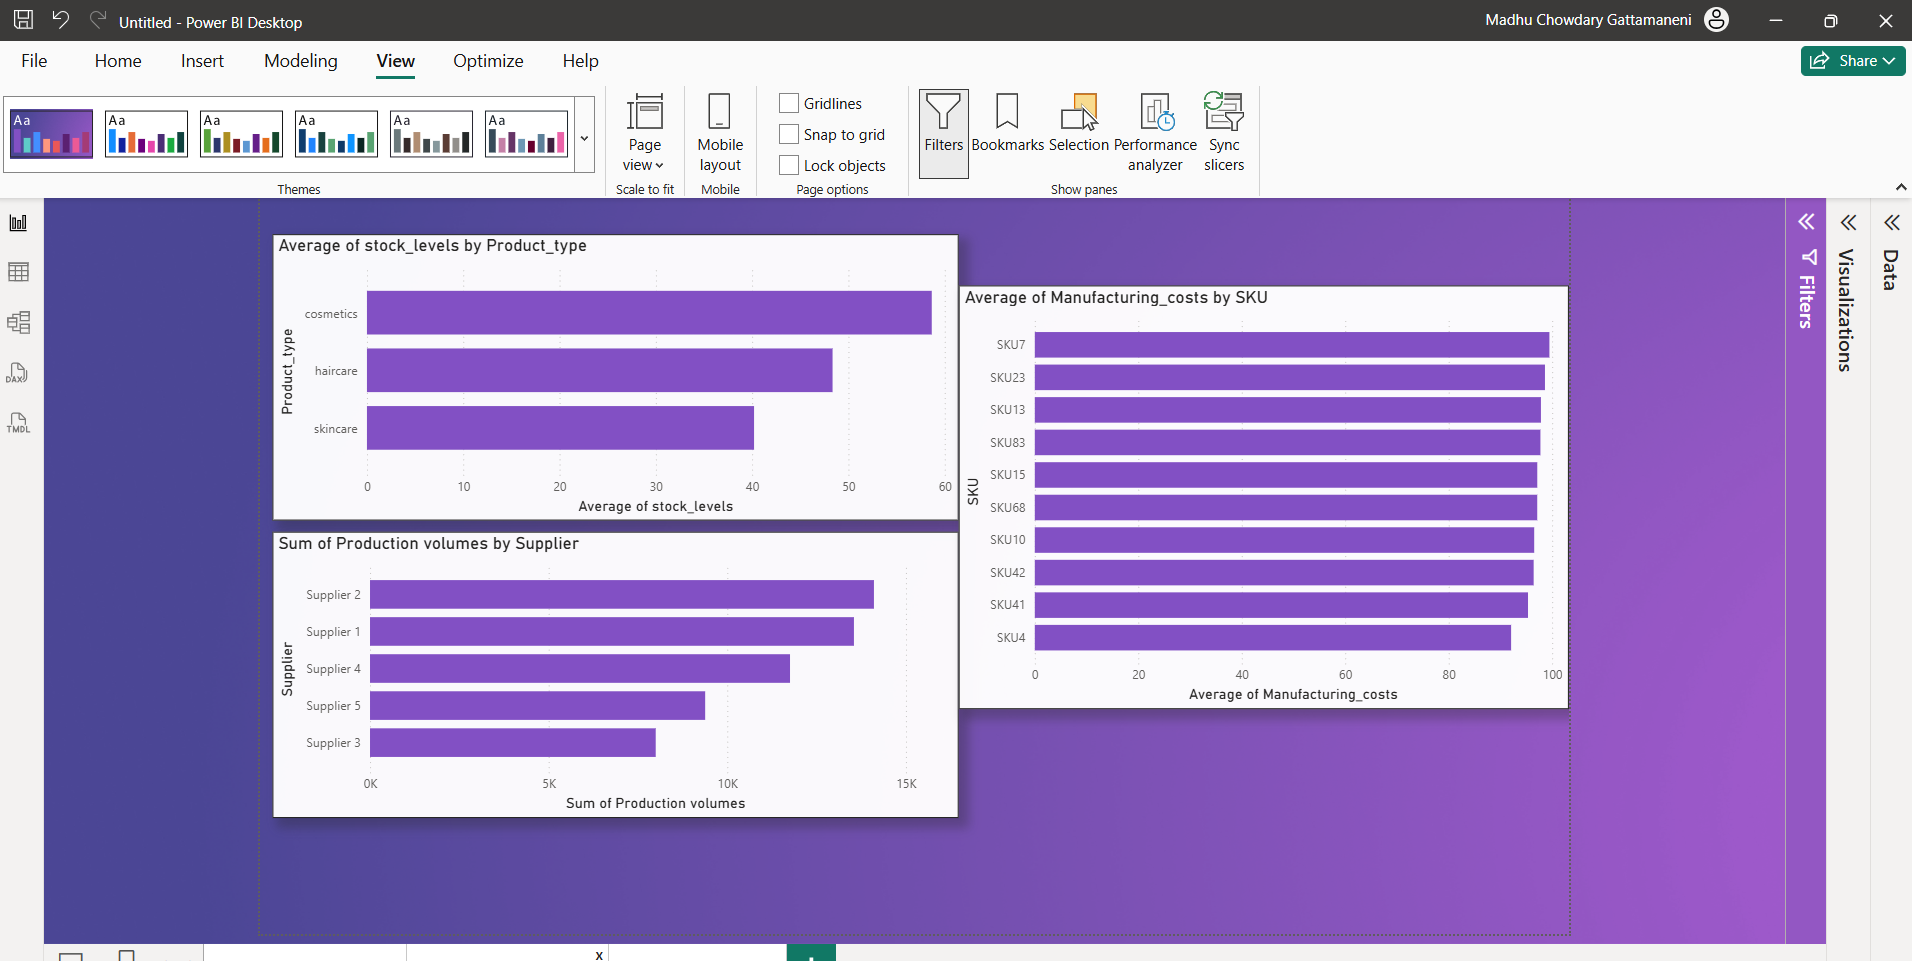

The dashboard page shown, as its layout file describes it:
{"tool":"powerbi","page":{"name":"Inventory&Production","canvas":[1280,720],"ordinal":1},"visuals":[{"type":"barChart","title":"Average  stock_levels by Product_type","fields":{"Category":["supply_chain_data.Product_type"],"Y":["Avg(supply_chain_data.stock_levels)"]},"box":[12.3,35.7,671,279.9],"z":0},{"type":"barChart","fields":{"Category":["supply_chain_data.Supplier"],"Y":["Sum(supply_chain_data.Production volumes)"]},"box":[12,326,671,280],"z":1},{"type":"barChart","title":" Manufacturing_costs by SKU","fields":{"Category":["supply_chain_data.SKU"],"Y":["Avg(supply_chain_data.Manufacturing_costs)"]},"box":[683.4,85.1,596.9,414.4],"z":2}]}

Visuals, with their boxes on the page's 1280x720 design canvas (x1, y1, x2, y2). These are canvas units, not pixel positions in the 1912x961 screenshot, which may show the page scaled, cropped or inside an application window:
"Average  stock_levels by Product_type" barChart: detection(12, 36, 683, 316)
barChart - supply_chain_data.Supplier x Sum(supply_chain_data.Production volumes): detection(12, 326, 683, 606)
" Manufacturing_costs by SKU" barChart: detection(683, 85, 1280, 500)
